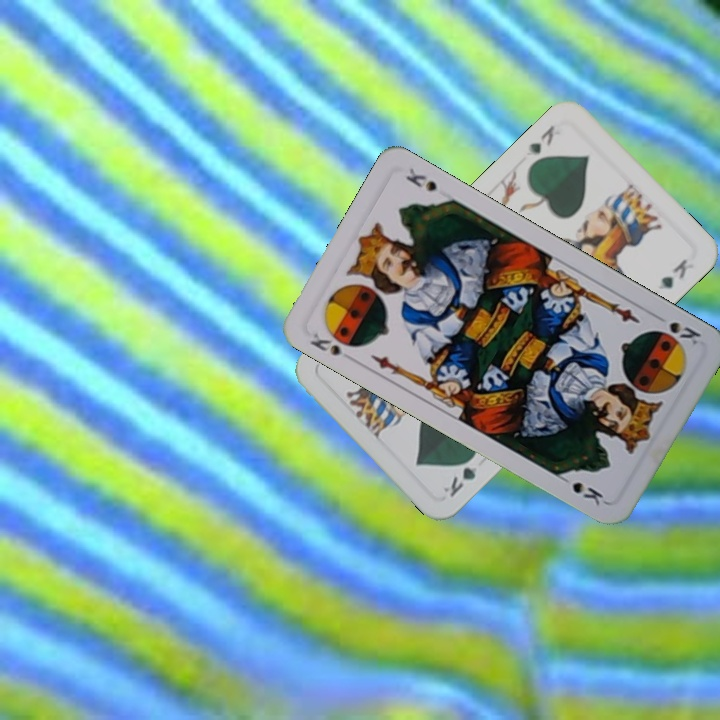GK: (439, 449, 480, 500), (524, 120, 558, 157)
SK: (306, 328, 358, 362), (665, 317, 704, 348)
